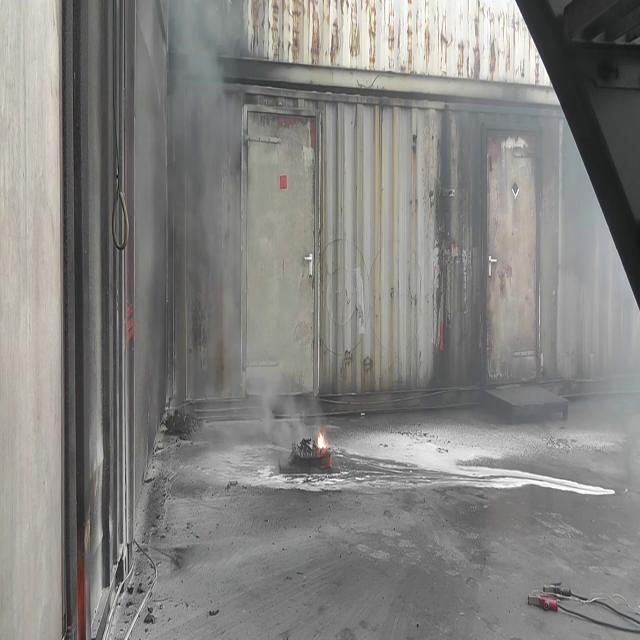Fire: (314, 420, 330, 460)
Smoke: (138, 6, 294, 480)
